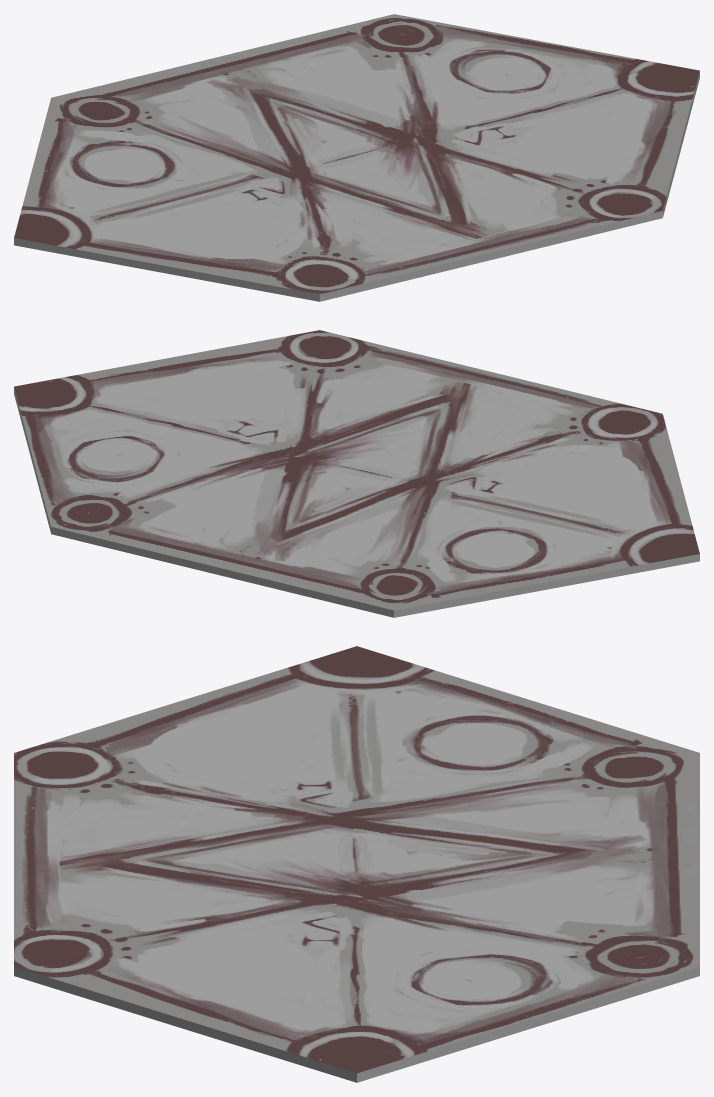
The model's file is summoningcircle.fbx.
3 views of the same model, one above another, from view 1: azimuth 30°, elevation 25°; view 2: azimuth 150°, elevation 25°; view 3: azimuth 270°, elevation 25° (orthographic). The views are drawn at different scales.
Visible parts, largest first — view 1: pCylinder1; view 2: pCylinder1; view 3: pCylinder1.
Boxes of the visible parts, x1,y1,x2,y2 form: pCylinder1: (14, 14, 699, 301); pCylinder1: (14, 330, 699, 617); pCylinder1: (14, 646, 699, 1082).
Size of the model in its own units: 2.55 by 0.0264 by 1.73.
